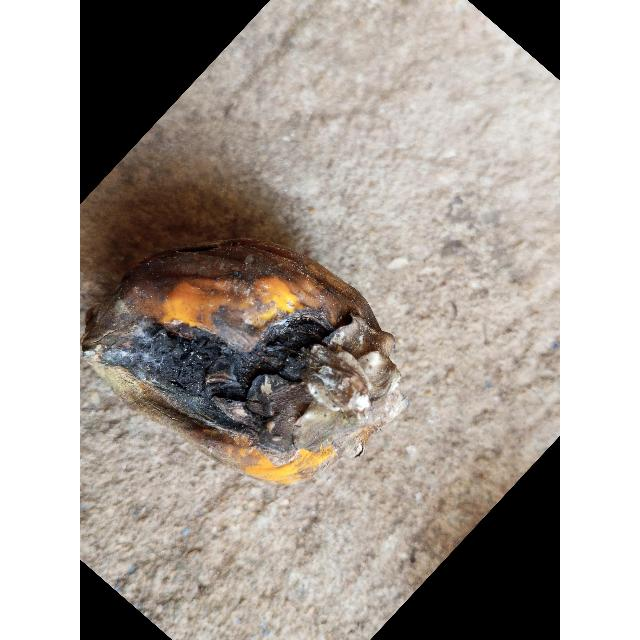damaged: (85, 202, 408, 486)
